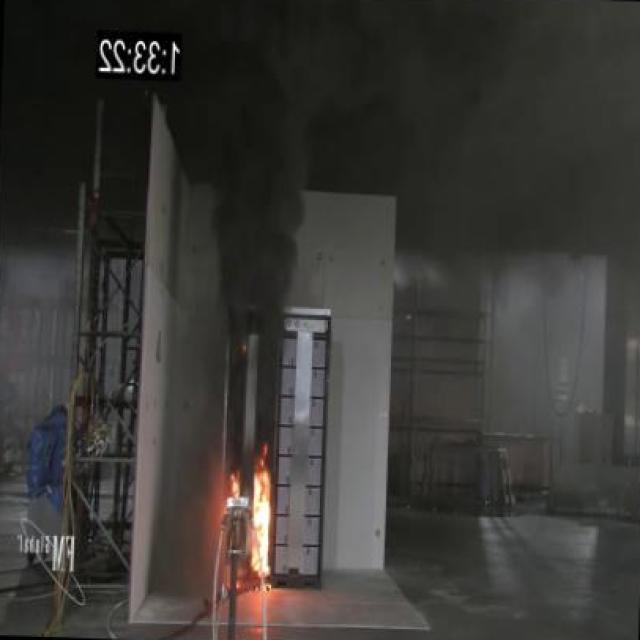fire: (205, 53, 312, 305)
smoke: (247, 452, 272, 584), (224, 466, 242, 503)
